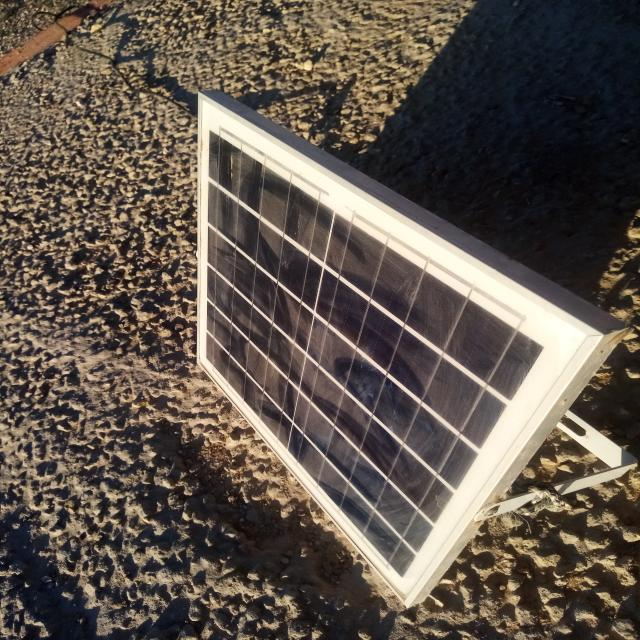faulty: (193, 95, 597, 606)
